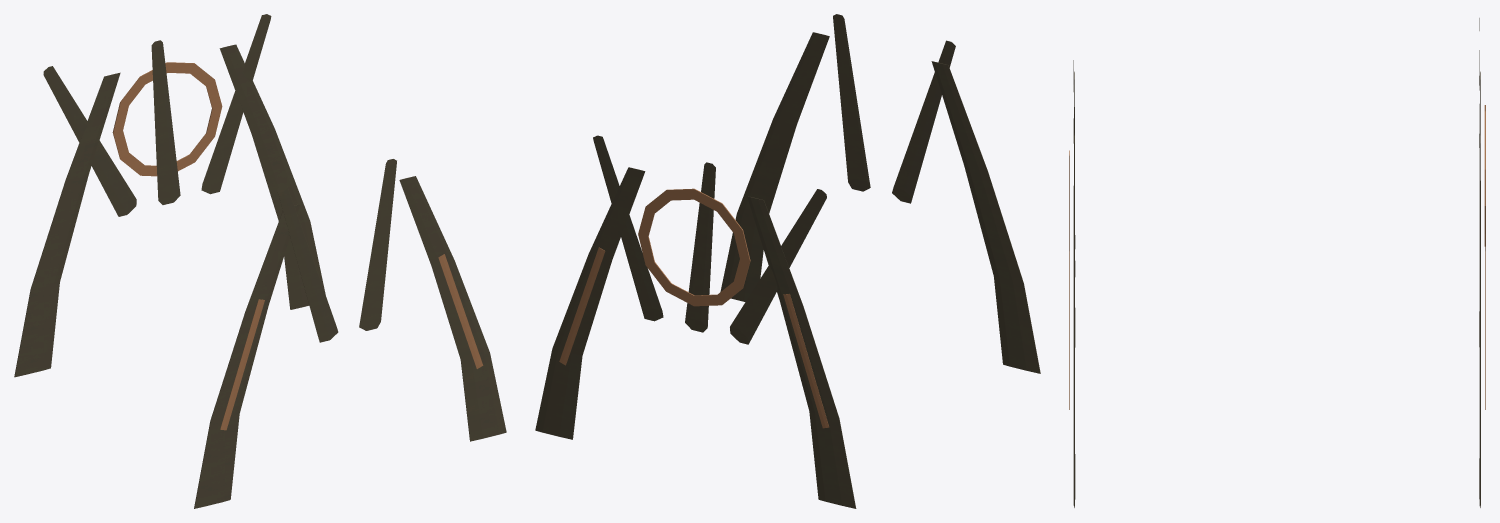
File: rootfall-root-buttress-0.glb
3 views of the same model, side by side, from view 1: azimuth 30°, elevation 25°; view 2: azimuth 150°, elevation 25°; view 3: azimuth 270°, elevation 25° (orthographic). The views are drawn at different scales.
Visible parts, largest first — view 1: rootfall-root-buttress_LOD0; view 2: rootfall-root-buttress_LOD0; view 3: rootfall-root-buttress_LOD0.
Boxes of the visible parts, bbox=[...] form: rootfall-root-buttress_LOD0: bbox=[14, 14, 506, 508]; rootfall-root-buttress_LOD0: bbox=[535, 14, 1040, 508]; rootfall-root-buttress_LOD0: bbox=[1069, 18, 1485, 507].
Size of the model in its own units: 0.9741 by 0.9 by 0.9962.
2 materials, 2 textured.
